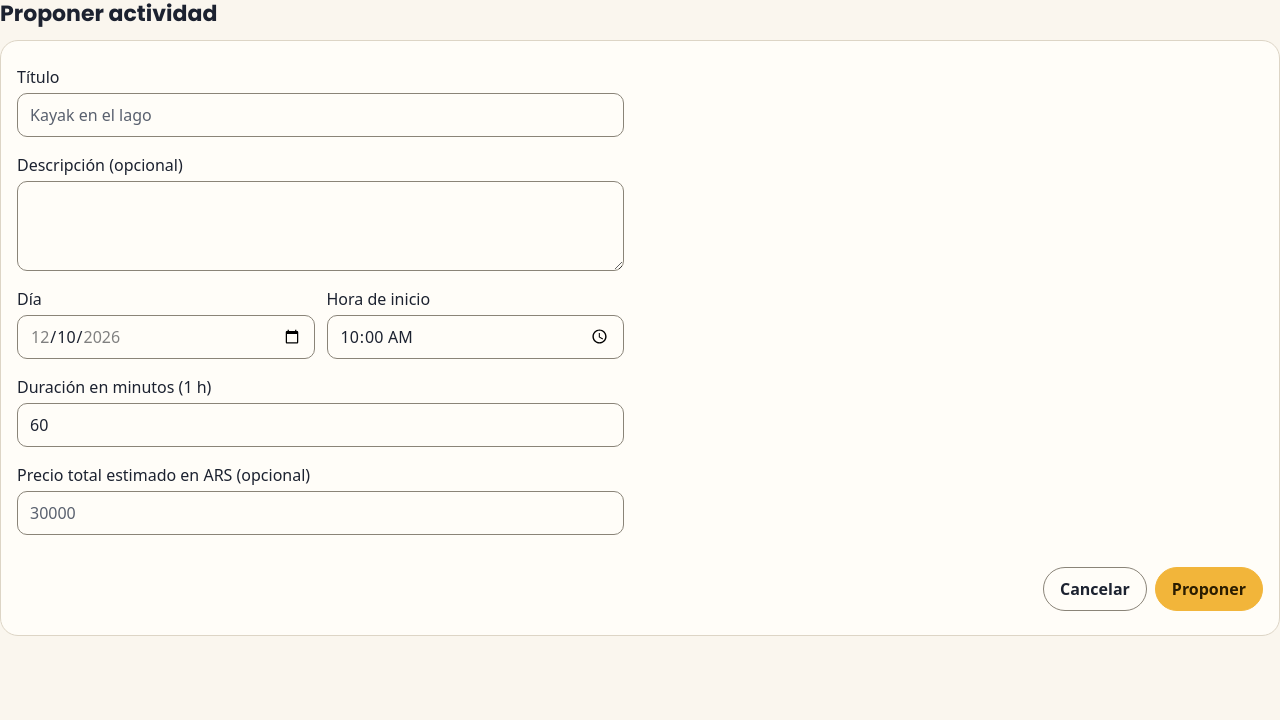
Test case: ActividadFormularioVista › RN-A2: si choca con una confirmada, lista el conflicto y conserva lo cargado
The image size is (1280, 720).
Type "Kayak" into the field with id "actividad-titulo". click: (320, 114)
box: [17,92,624,136]
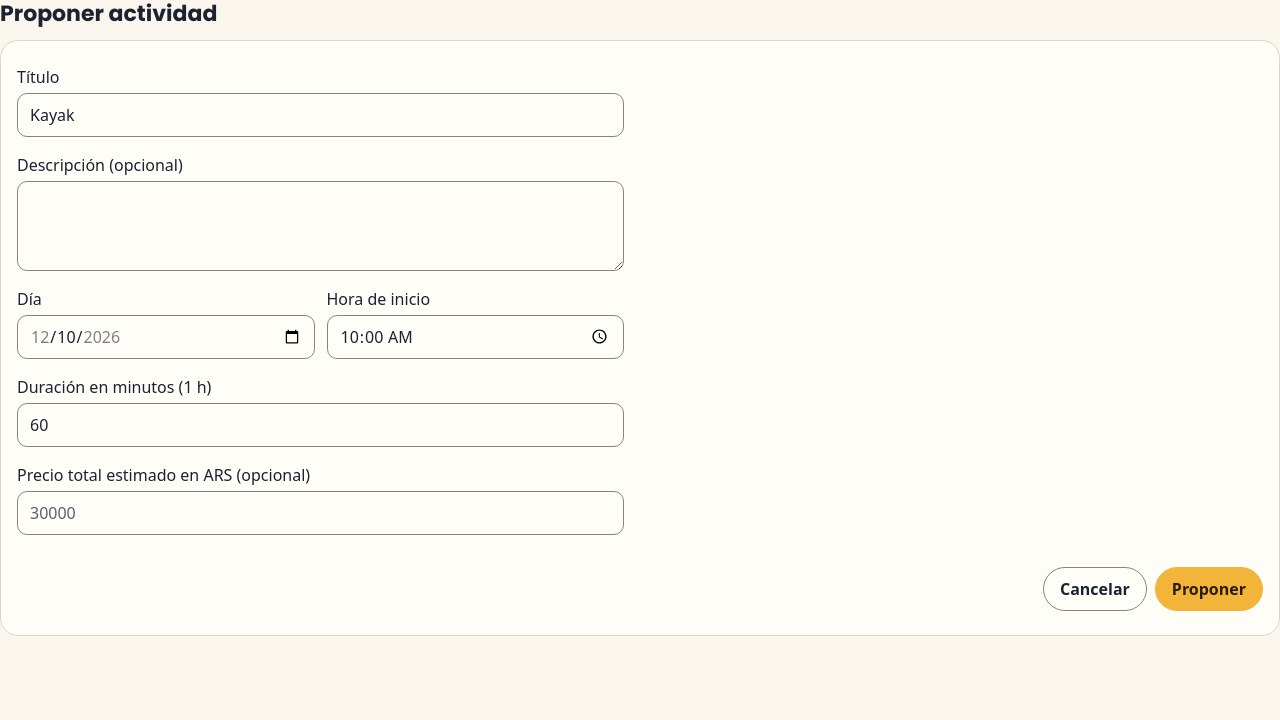
Type "Salida guiada" into the text box with id "actividad-descripcion". click: (320, 226)
box: [17,180,624,270]
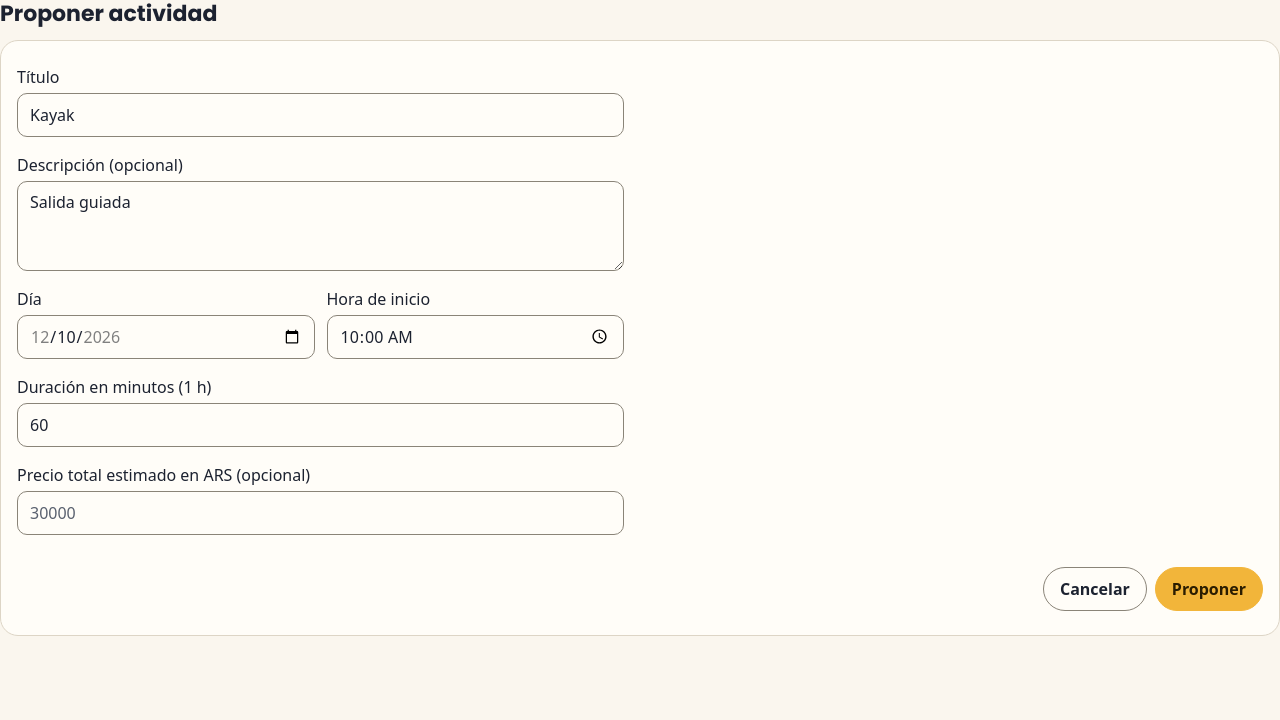
Type "2026-12-11" into the date field with id "actividad-fecha". click: (166, 336)
box: [17,314,314,358]
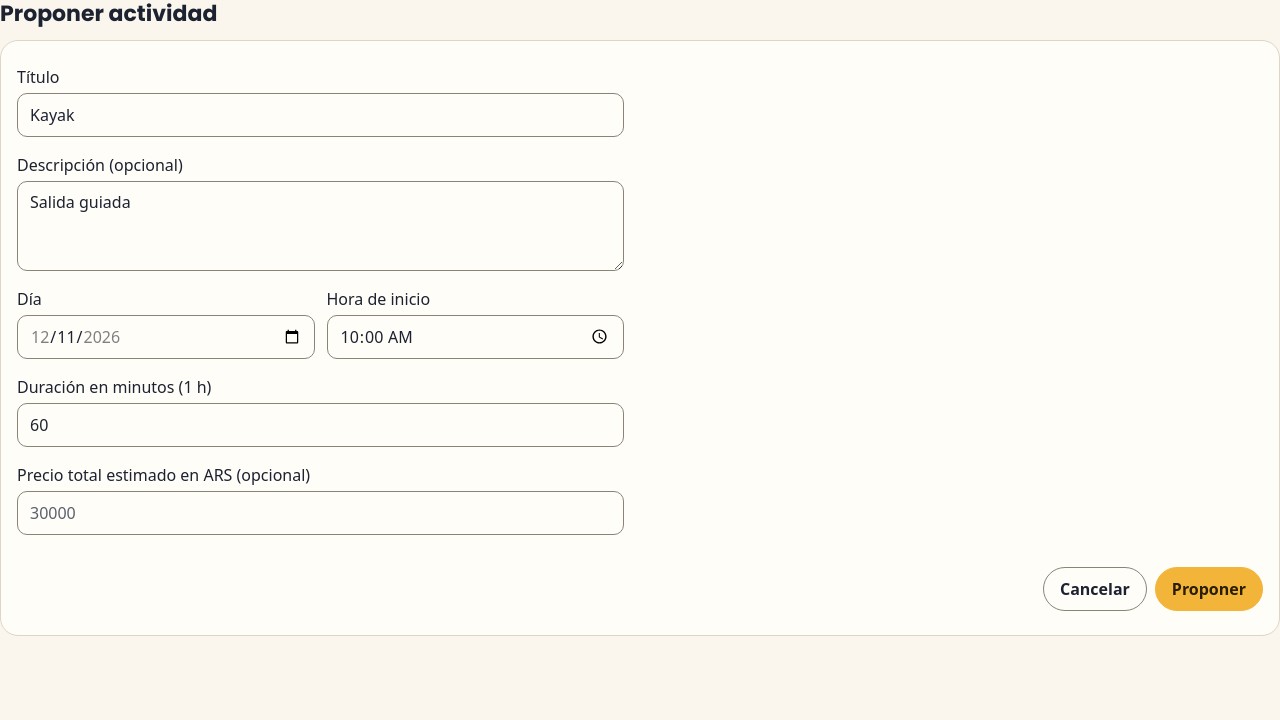
Replace the text in the time field with id "actividad-hora" with "11:00". click: (475, 336)
box: [326,314,624,358]
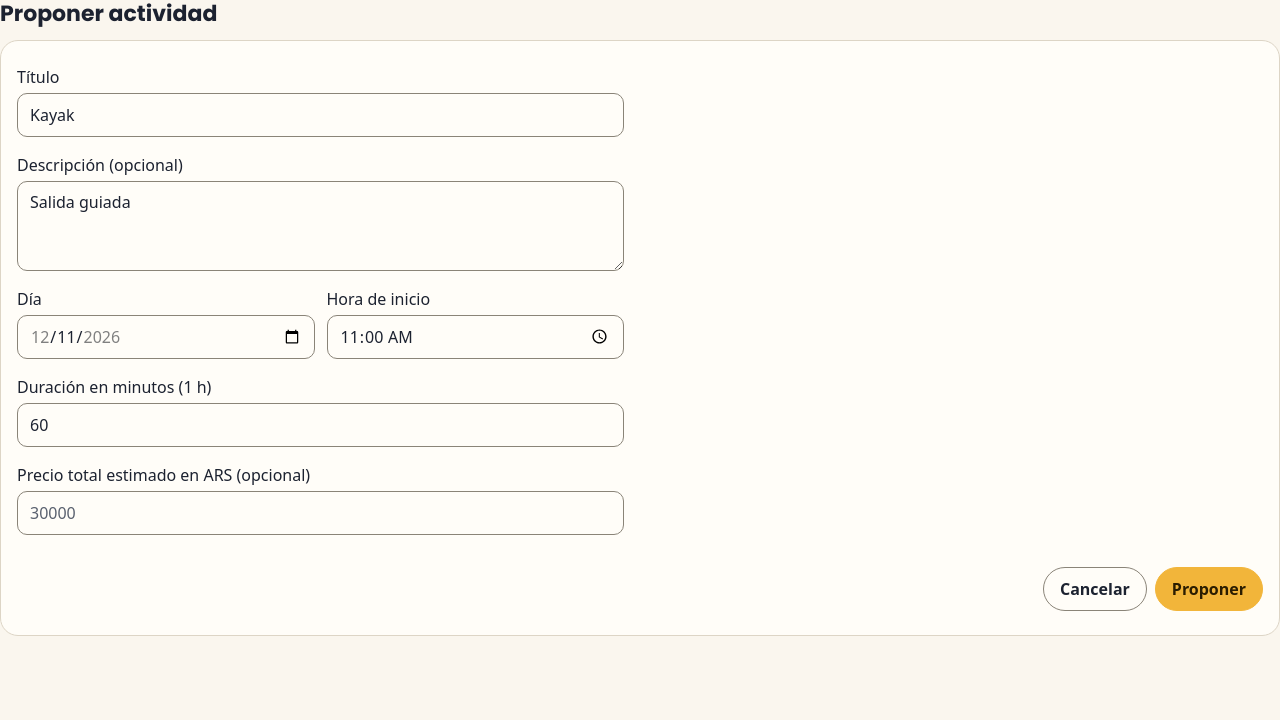
Replace the text in the number field with id "actividad-duracion" with "90". click: (320, 424)
box: [17,402,624,446]
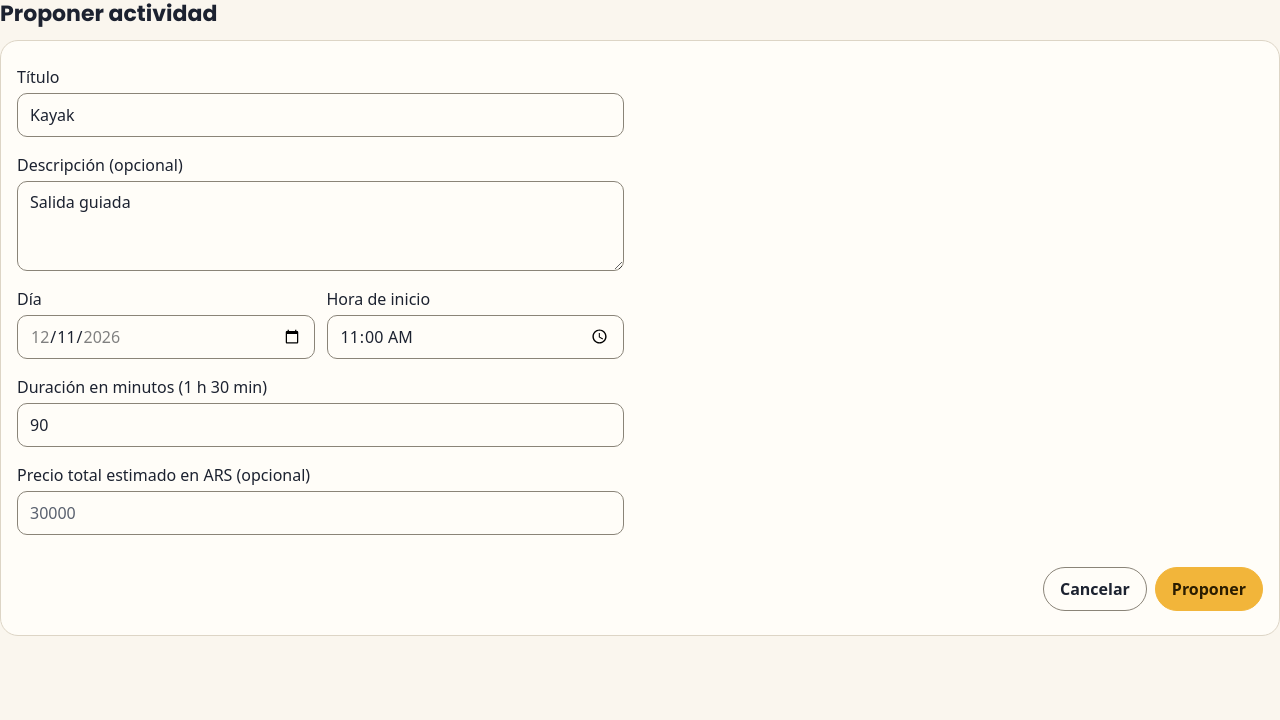
Submit the form
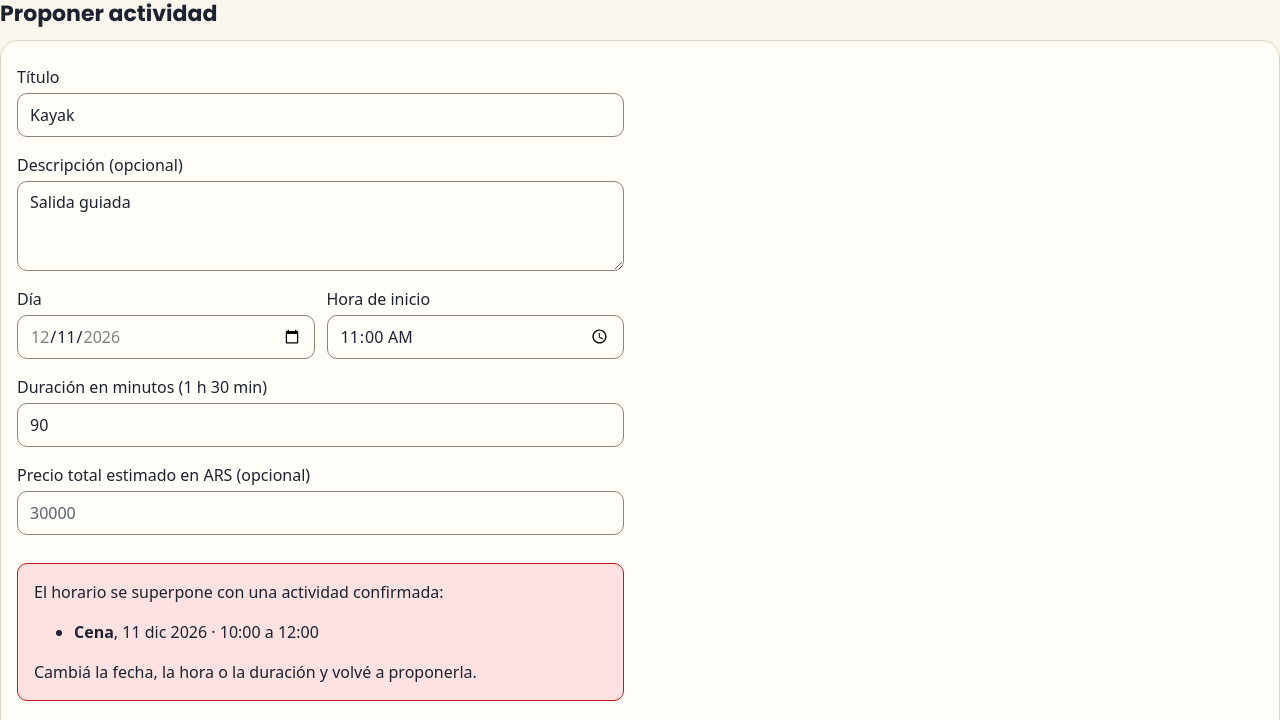
Expected: the message with class "aviso-superposicion" shows "Cena, 11 dic 2026 · 10:00 a 12:00", [17,562,624,700]
